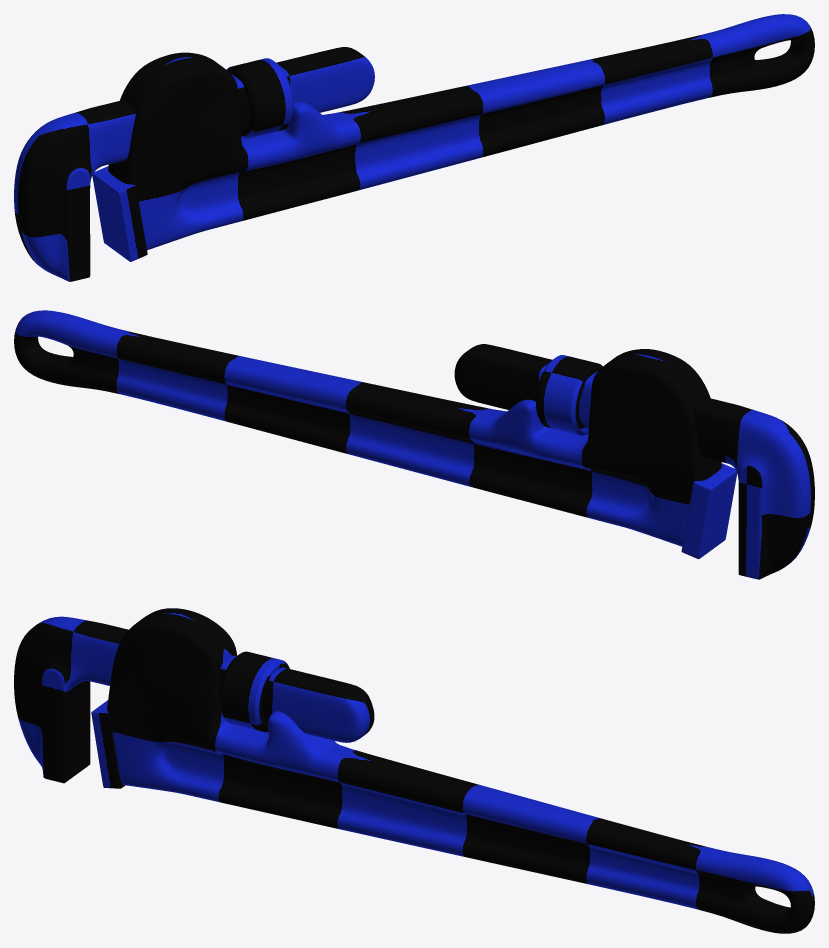
File: 10299_Monkey-Wrench_v1_L3.obj
The picture shows the model from 3 angles, top to bottom: view 1: azimuth 30°, elevation 25°; view 2: azimuth 150°, elevation 25°; view 3: azimuth 330°, elevation 25°; orthographic projection.
Parts seen in each view (by area): view 1: Object02; view 2: Object02; view 3: Object02.
Part boxes in pixels (left/top/right/bottom): Object02: left=14, top=14, right=814, bottom=281; Object02: left=14, top=310, right=814, bottom=579; Object02: left=14, top=608, right=814, bottom=933.
Bounding box in the file's own units: 36.19 × 8.01 × 2.92.
1 material, 1 textured.
